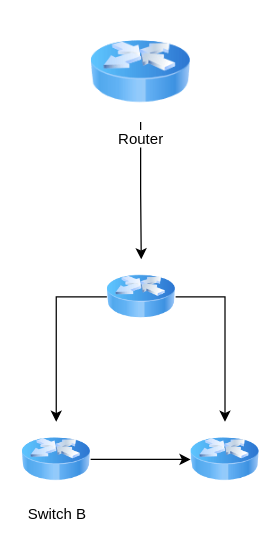
Image size: 280x544. Some labels were removed from this diagram. Each missing label, with the centre of its shape:
"Switch A" belongs at (x=140, y=296).
"Switch C" belongs at (x=224, y=458).
